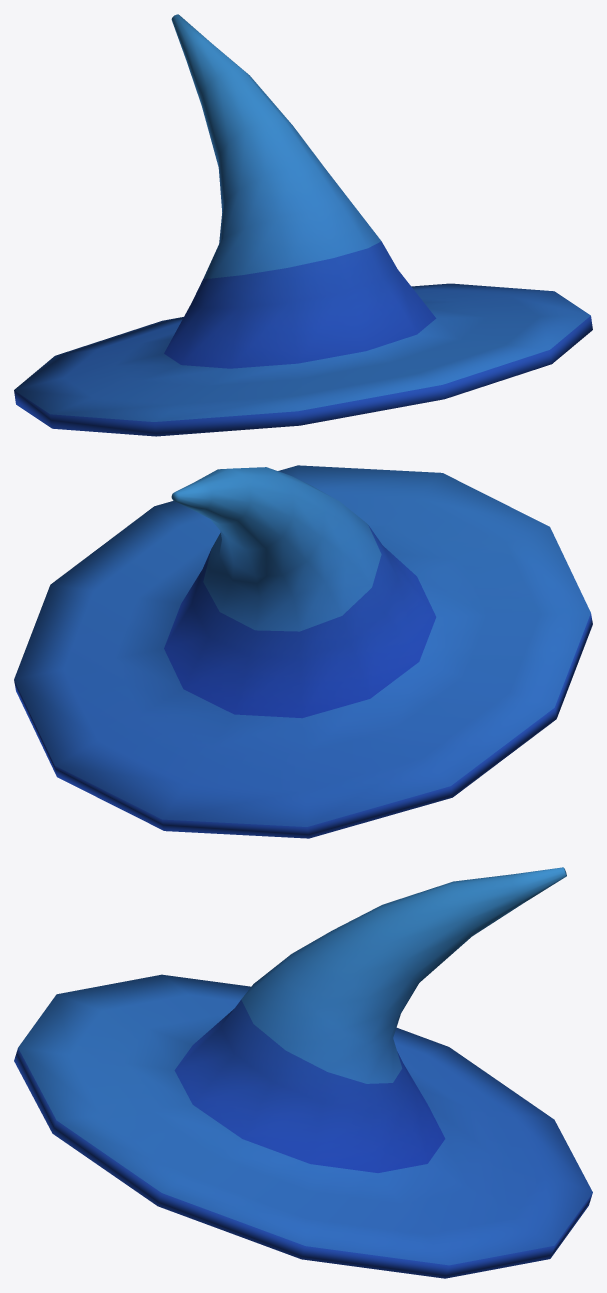
Rendered from Perso_Chapeau.fbx.
3 renders of one model, top to bottom at view 1: azimuth 30°, elevation 25°; view 2: azimuth 150°, elevation 25°; view 3: azimuth 270°, elevation 25°, orthographic. The views are drawn at different scales.
Visible parts, largest first — view 1: Perso_Chapeau; view 2: Perso_Chapeau; view 3: Perso_Chapeau.
Boxes of the visible parts, x1=… form: Perso_Chapeau: x1=14, y1=14, x2=592, y2=436; Perso_Chapeau: x1=14, y1=465, x2=592, y2=838; Perso_Chapeau: x1=14, y1=867, x2=592, y2=1278.
Bounding box in the file's own units: 295 × 184 × 286.
